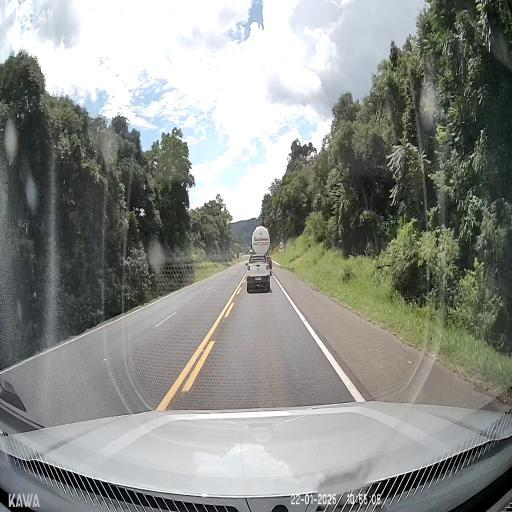R-19: (279, 241, 283, 249)
